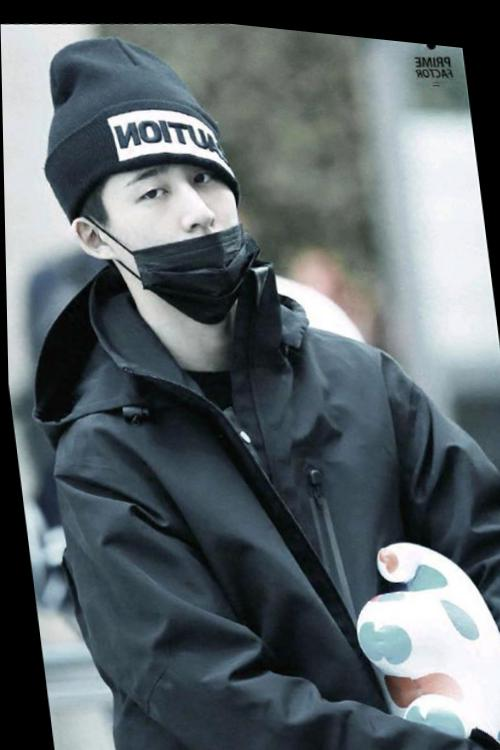WRONG: (93, 131, 253, 302)
